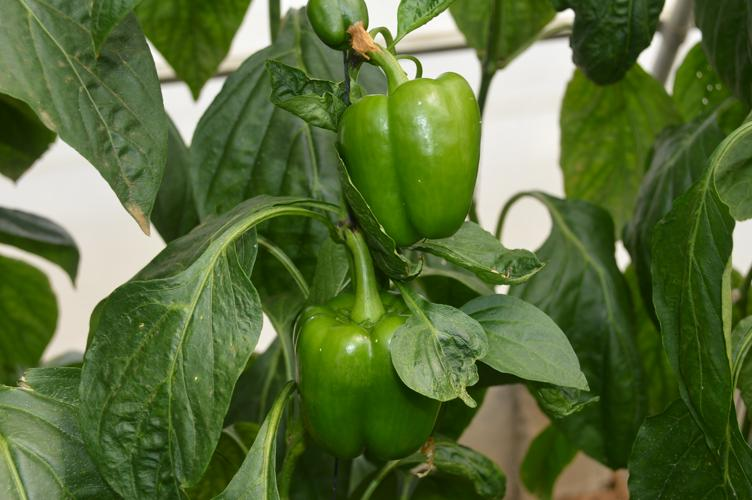BellPepper: (292, 290, 441, 460), (337, 69, 478, 242)
